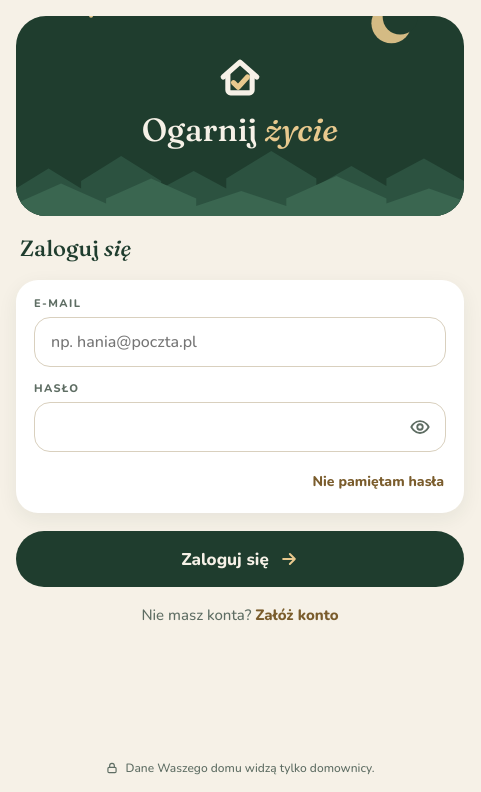
Test case: Zaloguj się: brak internetu → komunikat pod formularzem
This screenshot has width=481, height=792.
Type "hania@poczta.pl" into the field labelled "E‑MAIL" at {"x": 240, "y": 342}, box [34, 317, 446, 367]
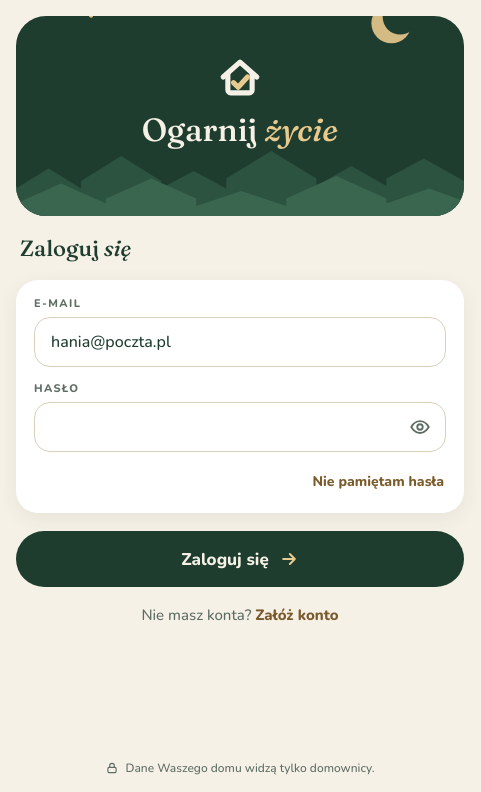
Type "tajne-haslo" into the password field labelled "HASŁO" at {"x": 240, "y": 427}, box [34, 402, 446, 452]
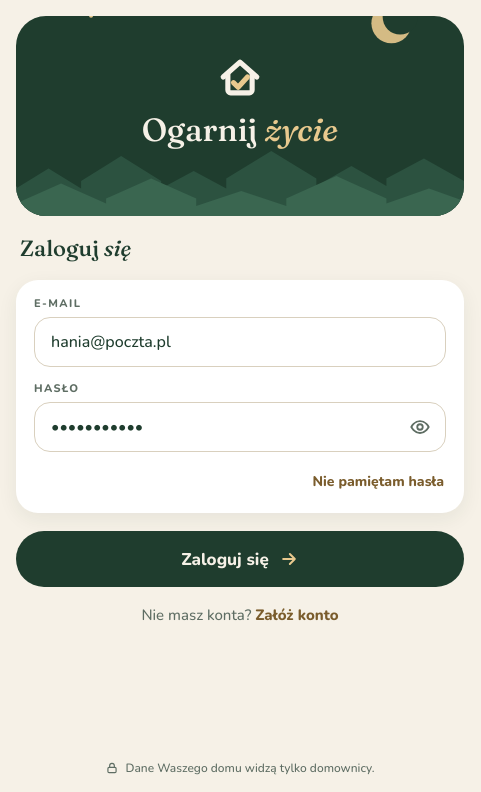
Click the button "Zaloguj się" at {"x": 240, "y": 559}, box [16, 531, 464, 587]
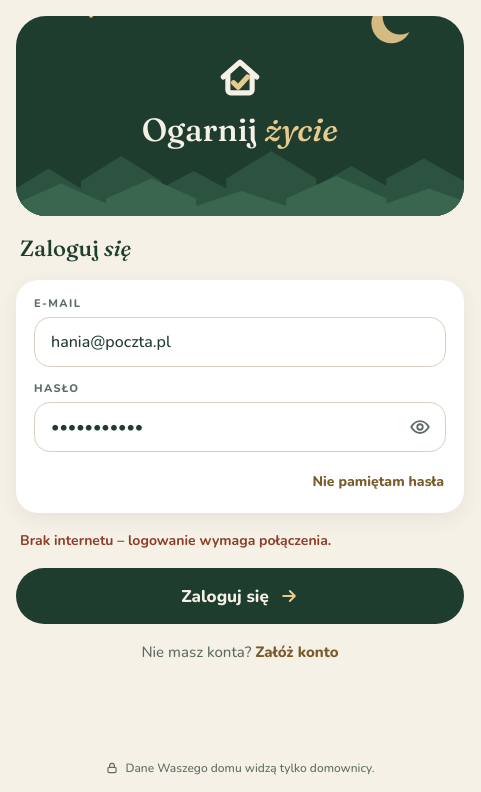
Expected: the message reads "Brak internetu – logowanie wymaga połączenia.", [20, 531, 331, 550]
